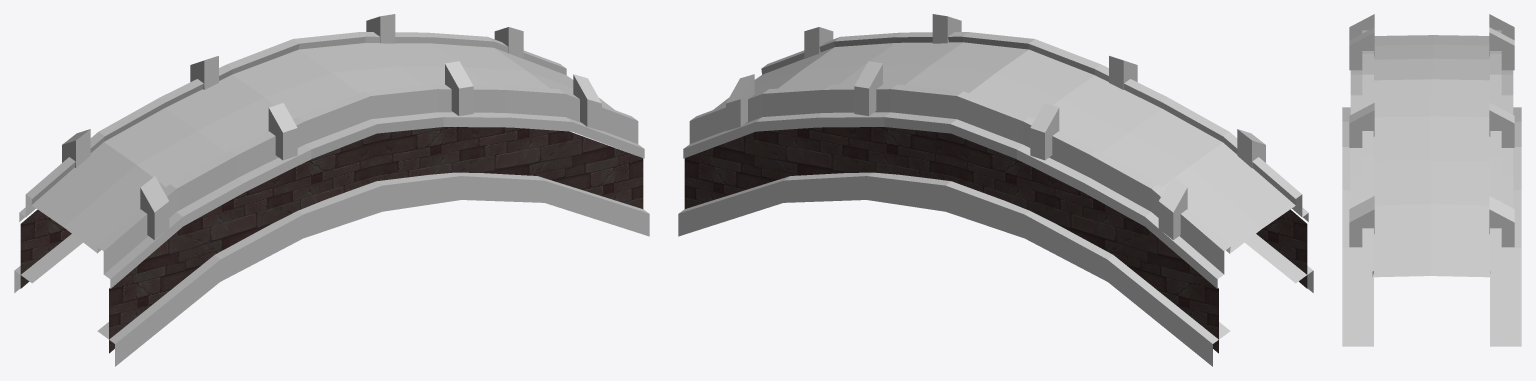
File: 10504_Nbridge02.FBX
The picture shows the model from 3 angles, left to right: view 1: azimuth 30°, elevation 25°; view 2: azimuth 150°, elevation 25°; view 3: azimuth 270°, elevation 25°; orthographic projection. The views are drawn at different scales.
Parts seen in each view (by area): view 1: 10504_Nbridge02_1, 10504_Nbridge02_2; view 2: 10504_Nbridge02_1, 10504_Nbridge02_2; view 3: 10504_Nbridge02_1.
Part boxes in pixels (bbox=[...]): 10504_Nbridge02_1: bbox=[14, 14, 649, 366]; 10504_Nbridge02_2: bbox=[20, 127, 643, 353]; 10504_Nbridge02_1: bbox=[678, 14, 1313, 366]; 10504_Nbridge02_2: bbox=[684, 127, 1307, 353]; 10504_Nbridge02_1: bbox=[1342, 14, 1521, 346].
Bounding box in the file's own units: 2003 × 736 × 653.
